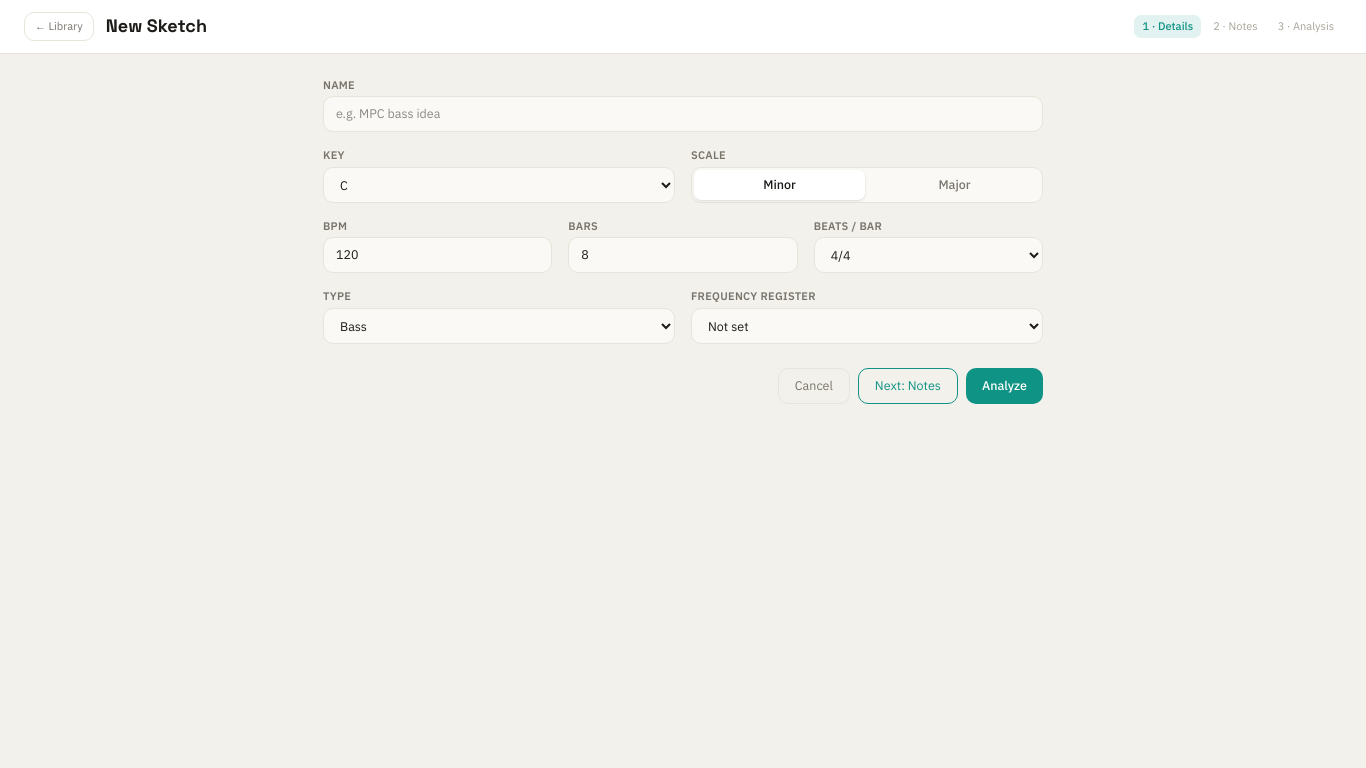
Test: SketchWizard — MIDI import › shows the MIDI import zone on the notes step
This screenshot has width=1366, height=768.
Advance to notes step
Click the button "Next: Notes".
click(908, 386)  # box [858,368,958,404]
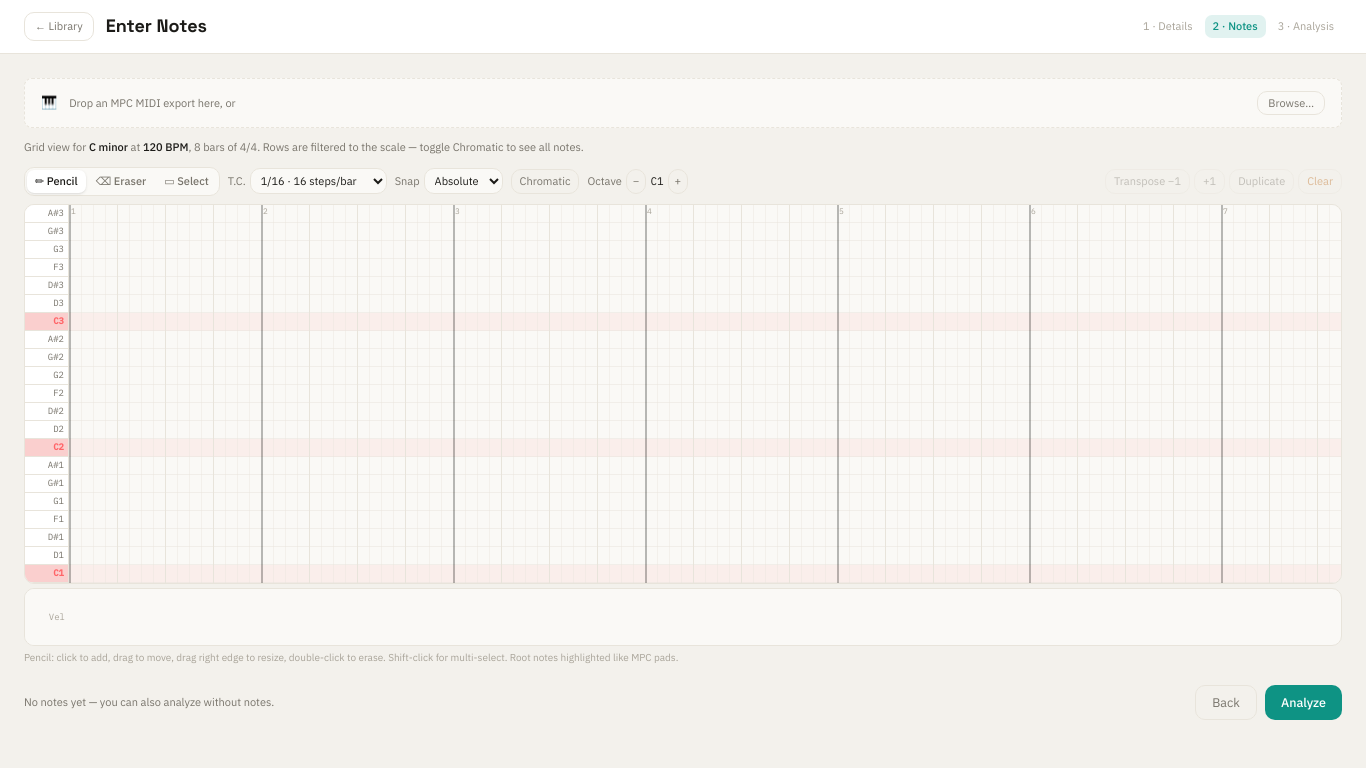
Now the text "Drop an MPC MIDI export here, or" is shown, box [69,96,236,110]
